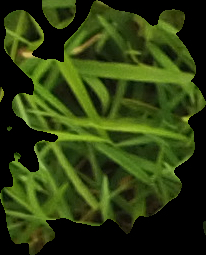grass: (1, 1, 204, 254)
